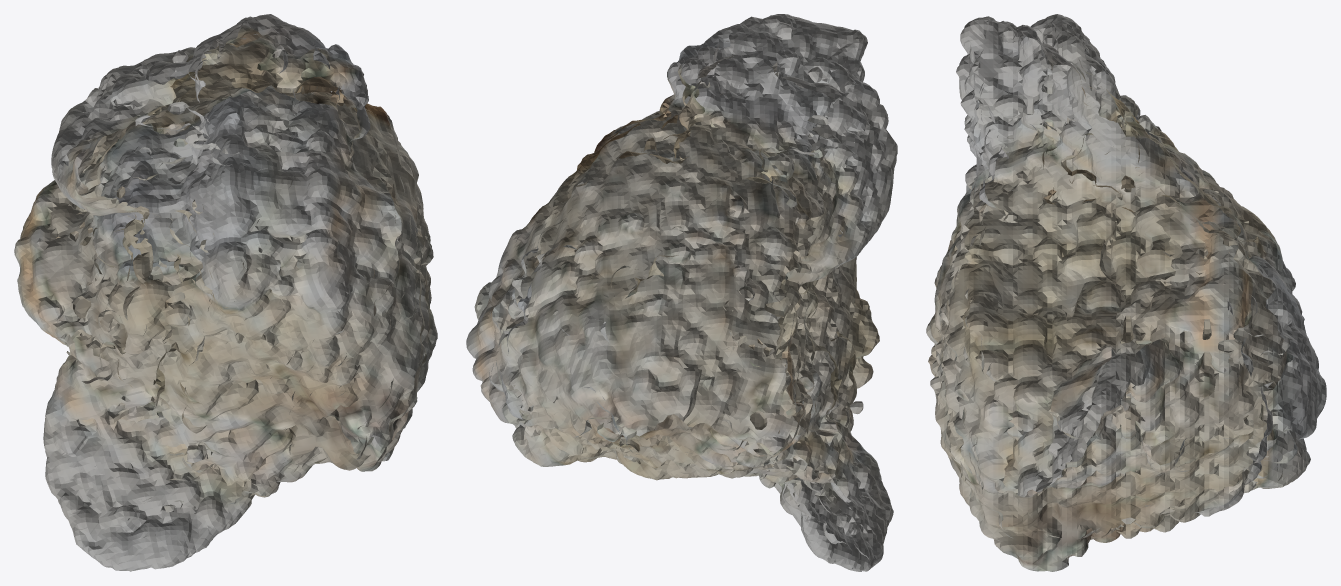
The picture shows the model from 3 angles, left to right: view 1: azimuth 30°, elevation 25°; view 2: azimuth 150°, elevation 25°; view 3: azimuth 270°, elevation 25°; orthographic projection. The views are drawn at different scales.
Visible parts, largest first — view 1: world; view 2: world; view 3: world.
Boxes of the visible parts, bbox=[...] form: world: bbox=[14, 14, 437, 571]; world: bbox=[466, 14, 897, 571]; world: bbox=[926, 14, 1326, 571].
Size of the model in its own units: 0.6441 by 0.8174 by 0.5568.
